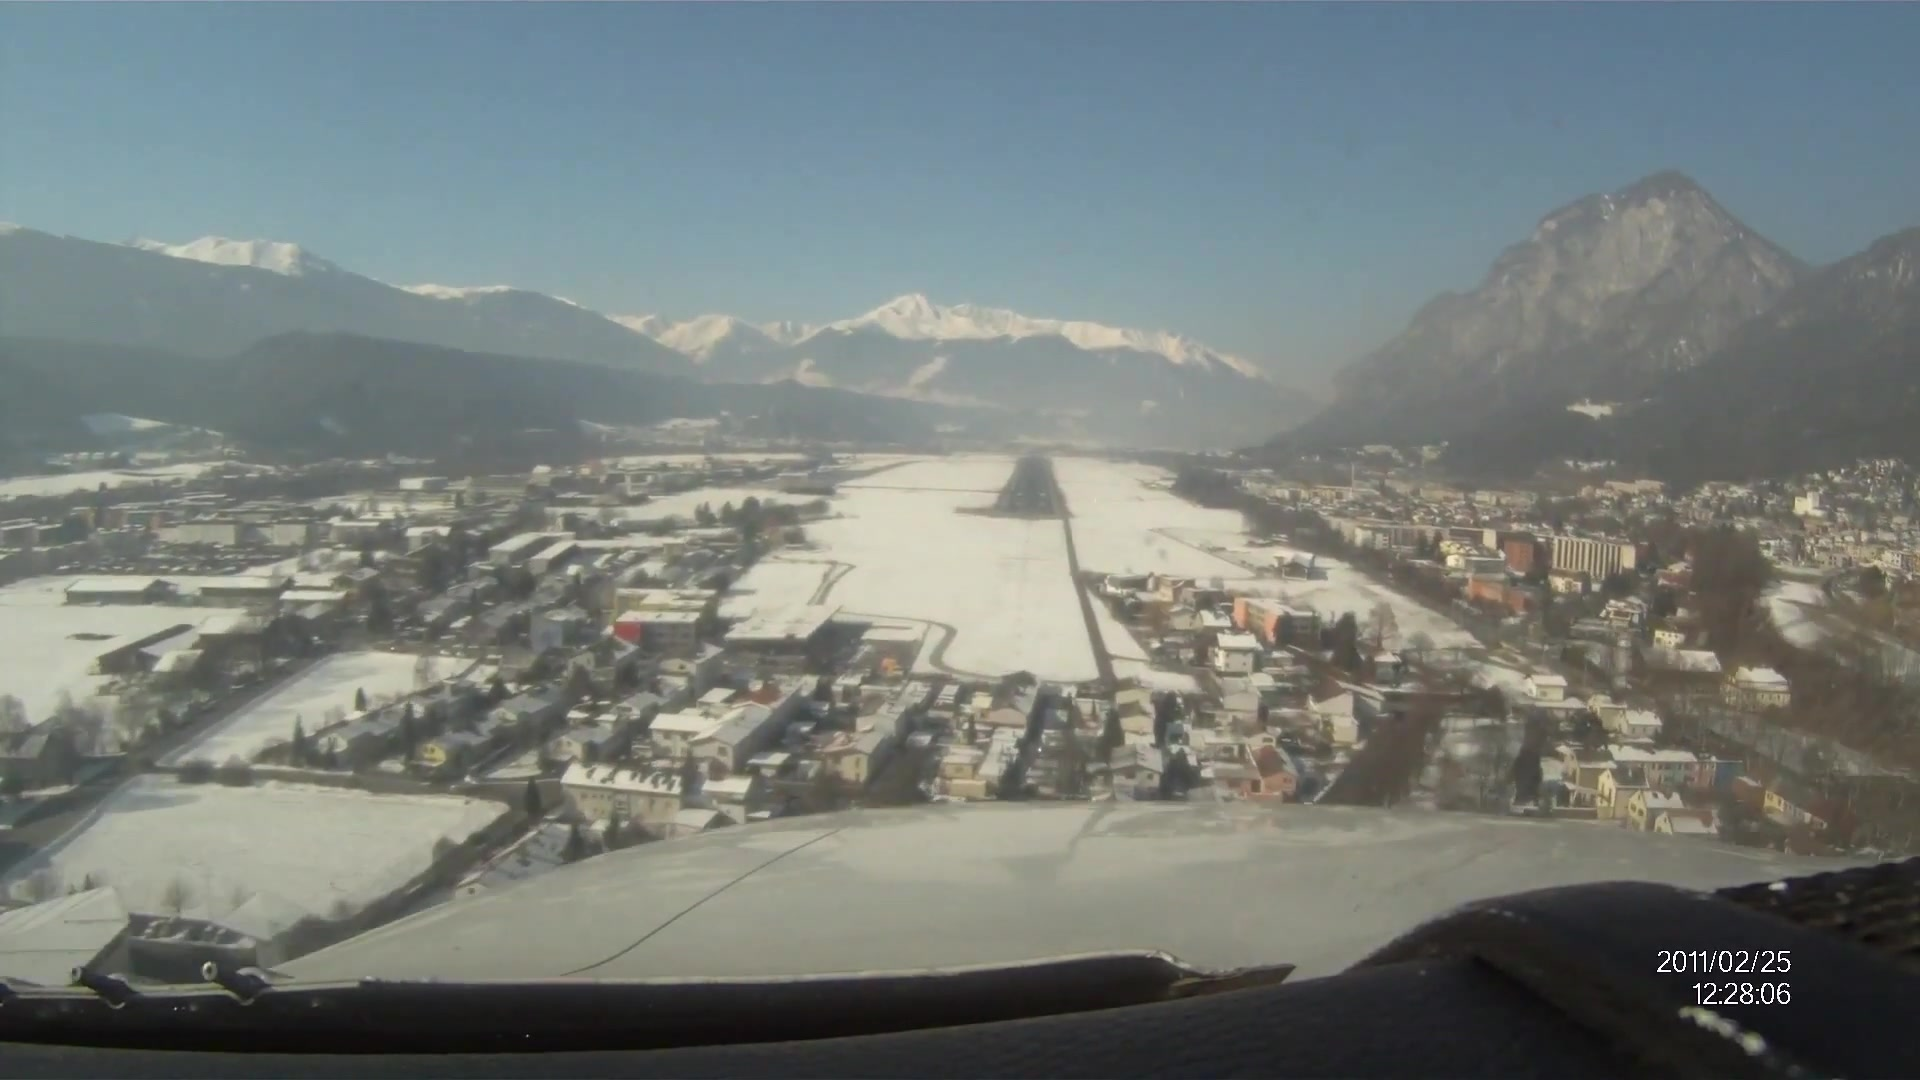runway: (1004, 452, 1056, 516)
